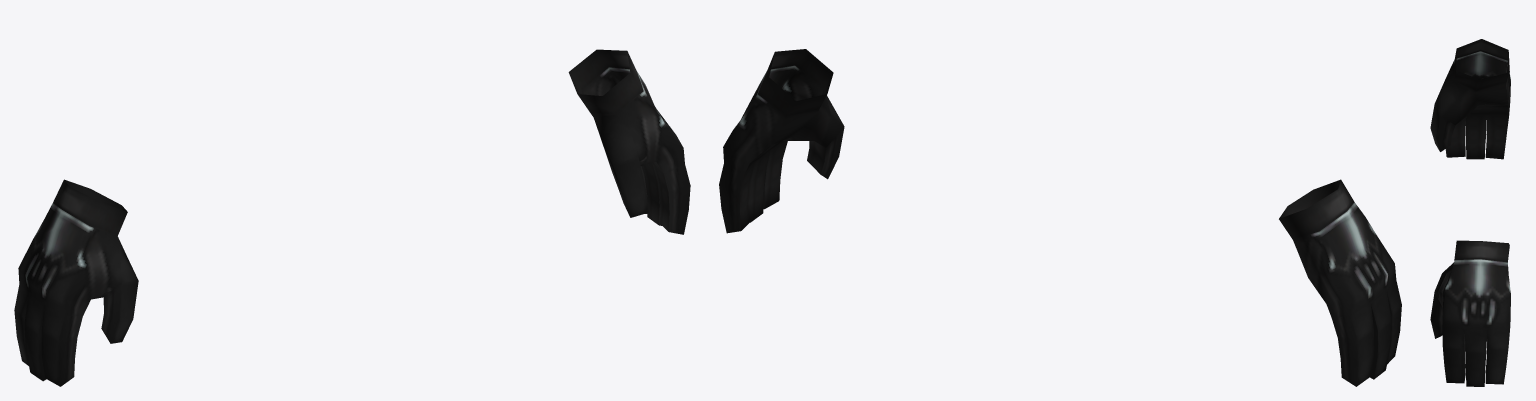
Rendered from hum_light_f_cecf9dba.glb.
3 renders of one model, left to right at view 1: azimuth 30°, elevation 25°; view 2: azimuth 150°, elevation 25°; view 3: azimuth 270°, elevation 25°, orthographic. The views are drawn at different scales.
Size of the model in its own units: 1.7 by 0.5333 by 0.2812.
Materials: 1 (1 with a texture image).
